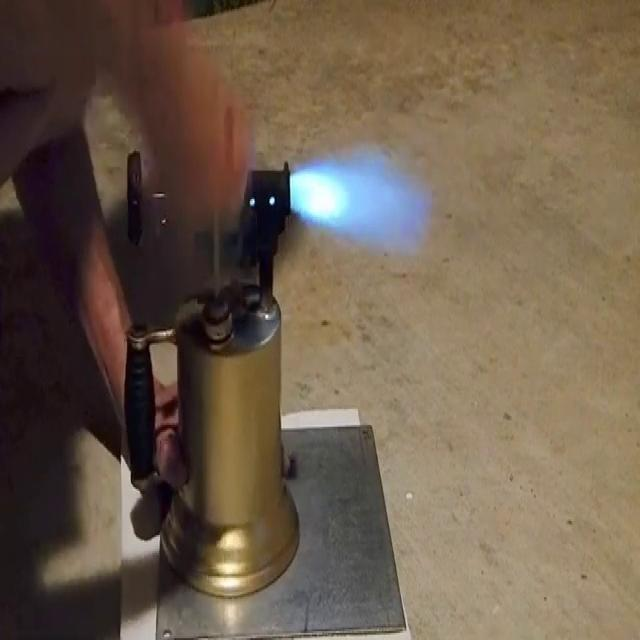fire: (288, 137, 444, 267)
